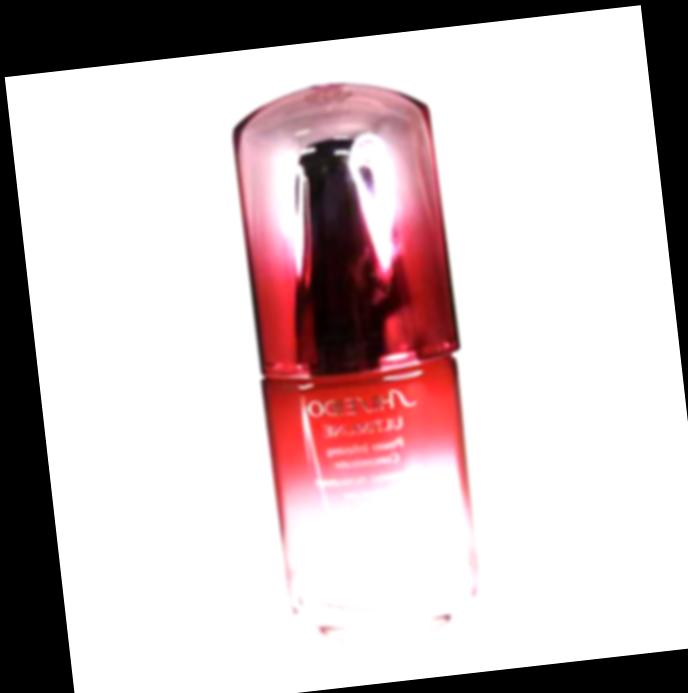cosmetic: (222, 67, 494, 651)
